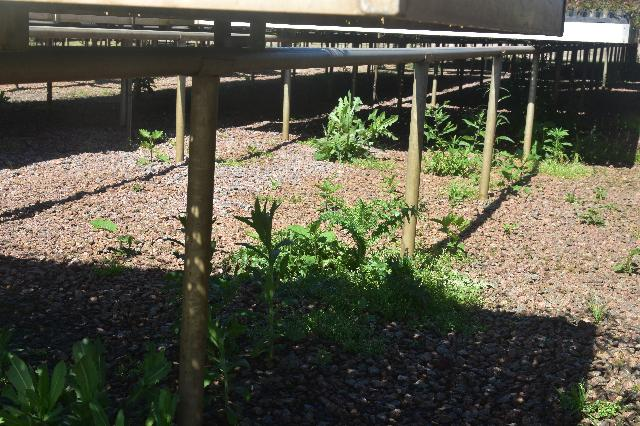MalezaMontesDelPlata: (299, 250, 468, 349), (0, 322, 111, 426), (231, 196, 296, 367), (314, 173, 406, 274), (315, 91, 402, 170), (110, 340, 179, 426), (426, 100, 485, 180), (85, 212, 146, 278), (544, 375, 622, 423), (497, 136, 541, 198), (562, 185, 612, 230), (126, 123, 173, 169), (537, 123, 577, 170), (434, 203, 469, 248), (579, 283, 613, 327), (608, 246, 640, 282)
